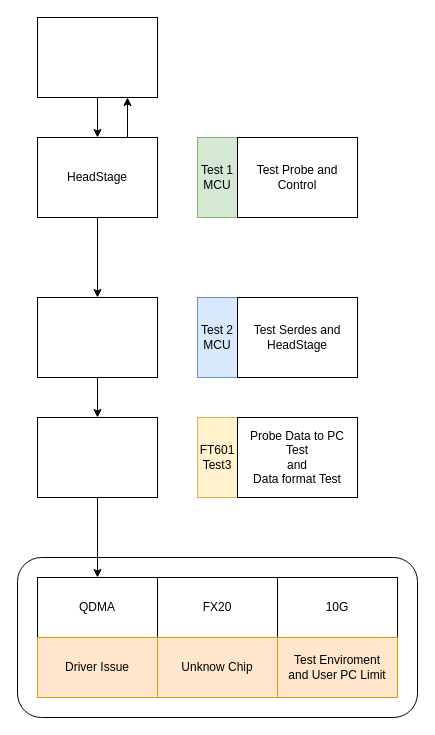
Image size: 435x735. Some labels were removed from this diagram. Here are the shapes that lost their labels. From the top down, the centre of each, then its label:
At [97,57]: "Probe".
At [97,337]: "SerDes".
At [97,457]: "FPGA".
